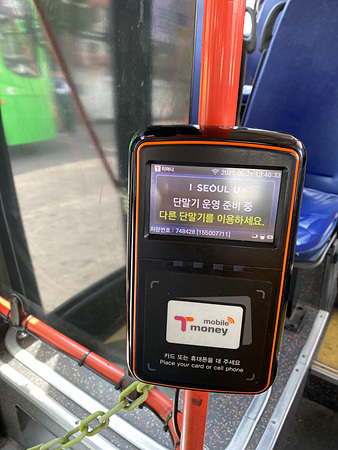terminal: (130, 131, 292, 390)
